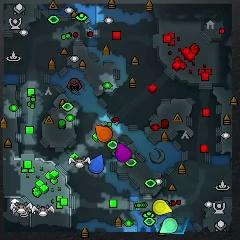p1: (88, 154, 104, 173)
p2: (159, 217, 177, 233)
p3: (115, 144, 131, 162)
p4: (154, 199, 172, 214)
p5: (95, 126, 113, 142)
